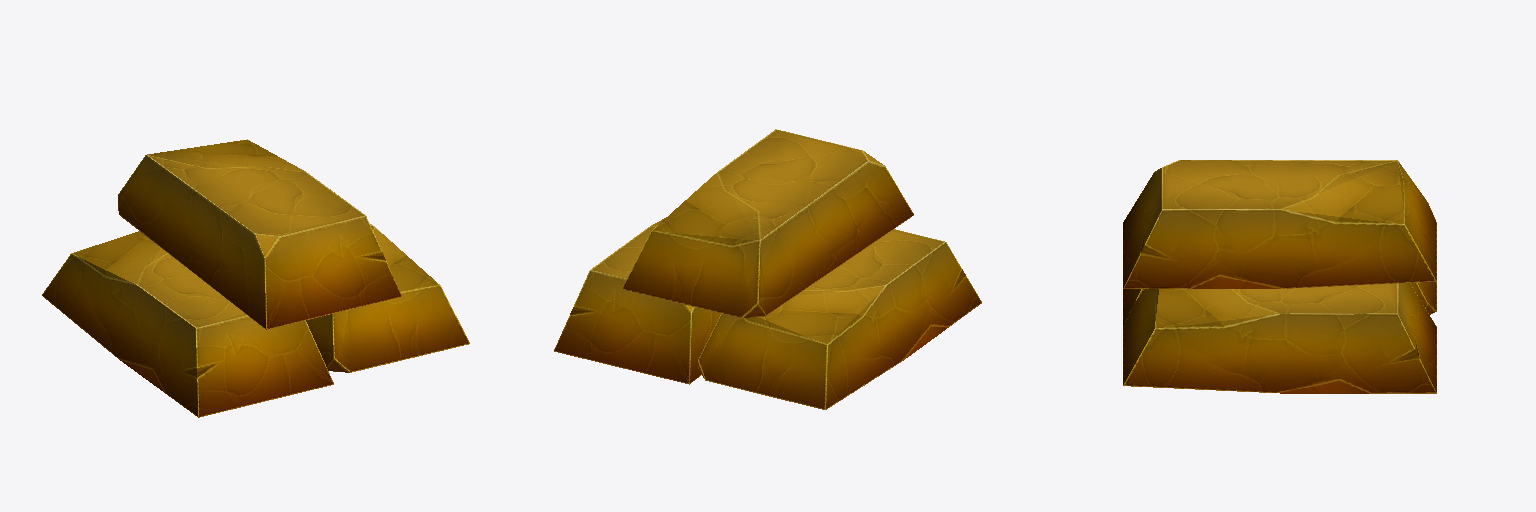
3 renders of one model, left to right at view 1: azimuth 30°, elevation 25°; view 2: azimuth 150°, elevation 25°; view 3: azimuth 270°, elevation 25°, orthographic.
Parts seen in each view (by area): view 1: Gold_08; view 2: Gold_08; view 3: Gold_08.
Part boxes in pixels (x1,y1,x2,y2): Gold_08: (42, 139, 469, 417); Gold_08: (554, 129, 981, 409); Gold_08: (1123, 160, 1436, 393).
Bounding box in the file's own units: 0.15 × 0.075 × 0.15.
1 materials, 1 textured.